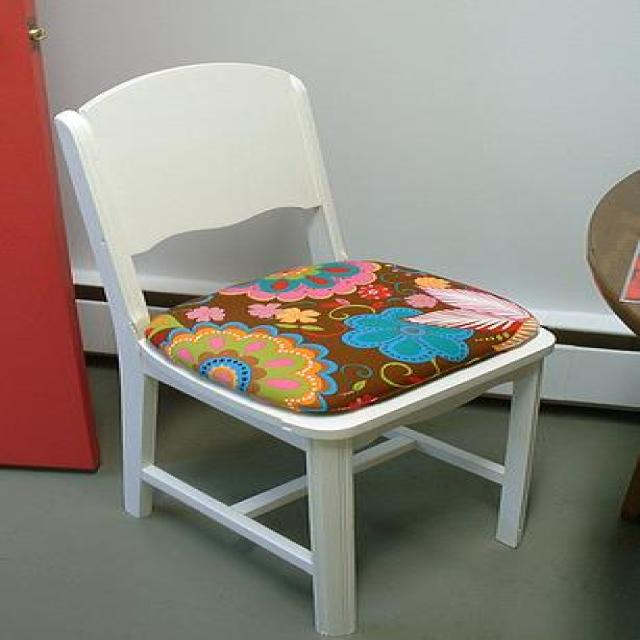chair: (52, 62, 552, 640)
